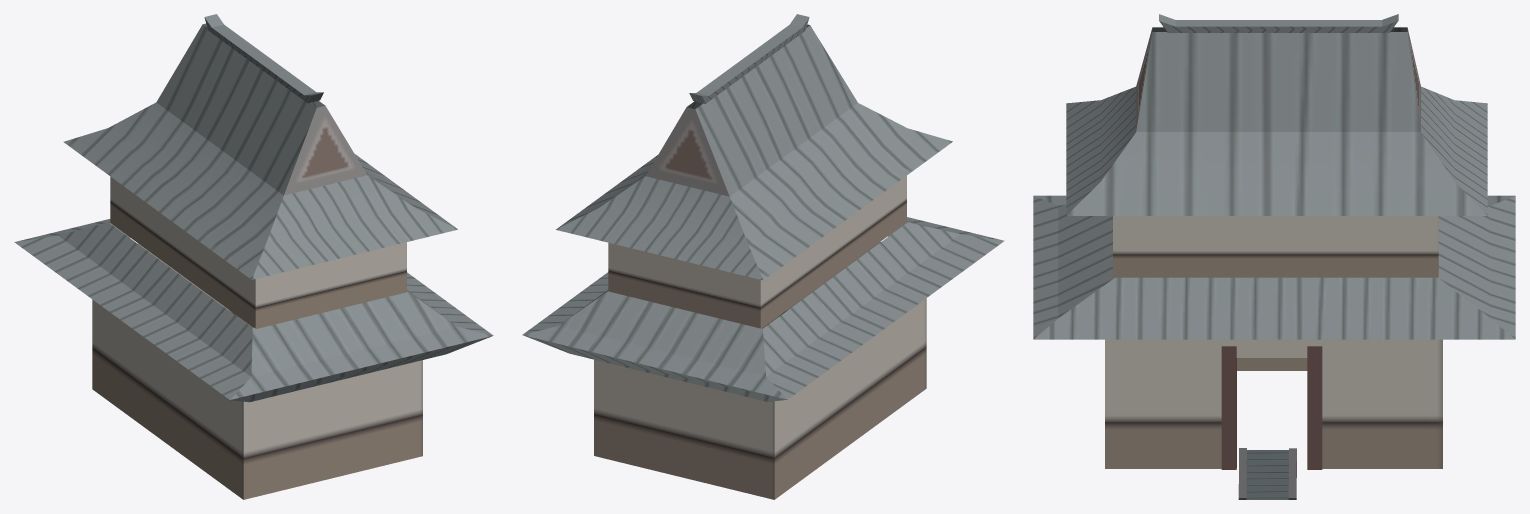
File: TS_Building_06.FBX
3 views of the same model, side by side, from view 1: azimuth 30°, elevation 25°; view 2: azimuth 150°, elevation 25°; view 3: azimuth 270°, elevation 25° (orthographic). The views are drawn at different scales.
Visible parts, largest first — view 1: TS_building_06; view 2: TS_building_06; view 3: TS_building_06.
Part boxes in pixels (x1,y1,x2,y2): TS_building_06: (14, 14, 493, 499); TS_building_06: (522, 14, 1004, 499); TS_building_06: (1033, 14, 1515, 499).
Size of the model in its own units: 2.82 by 3.49 by 3.74.
